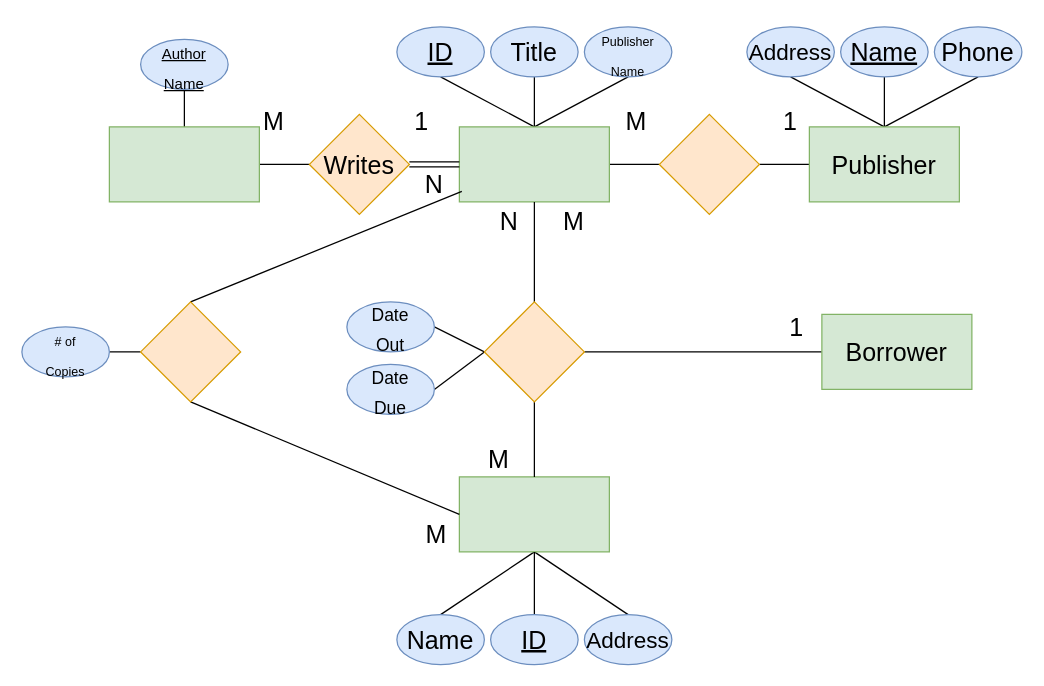
Image size: 1044x686. Some labels were removed from this diagram. Here are the shapes that lost their labels. From the top down, the box of each, then its label:
(108, 126, 259, 202): Book Author
(458, 126, 609, 202): Book
(658, 113, 759, 214): Publishes
(139, 301, 241, 402): Has
(483, 301, 584, 402): Loans
(458, 476, 609, 552): Library Branch
